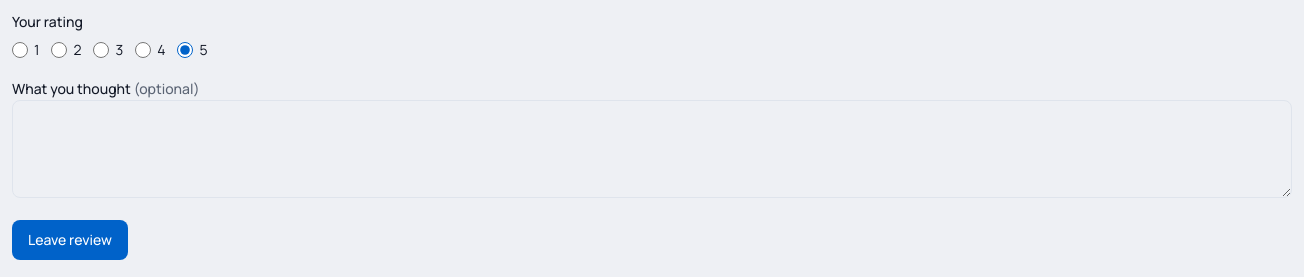
Test: ReviewForm › redraws the page once it is saved, so the listing shows it
The width and height of the screenshot is (1304, 277).
Click the button "Leave review": (70, 240) [12,220,128,260]
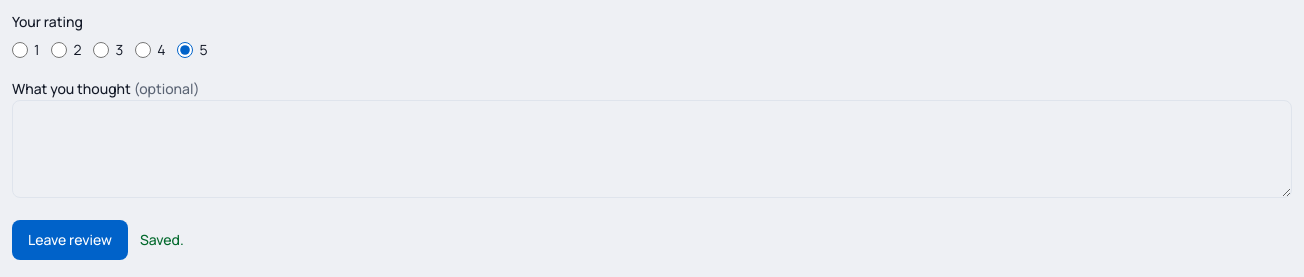
Check: the text "Saved." is shown, box [140,230,184,250]
